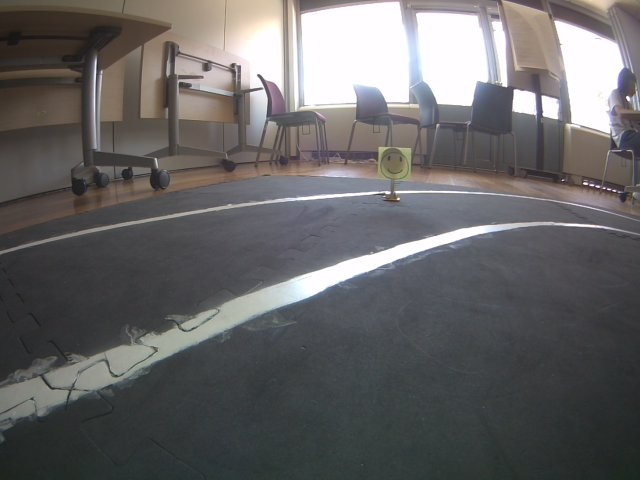Smiley: (377, 145, 413, 182)
